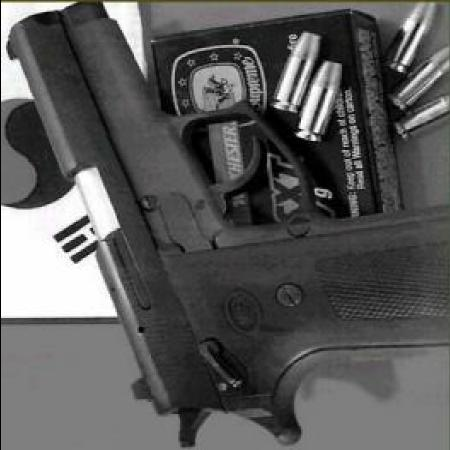Pistol: (3, 3, 445, 445)
